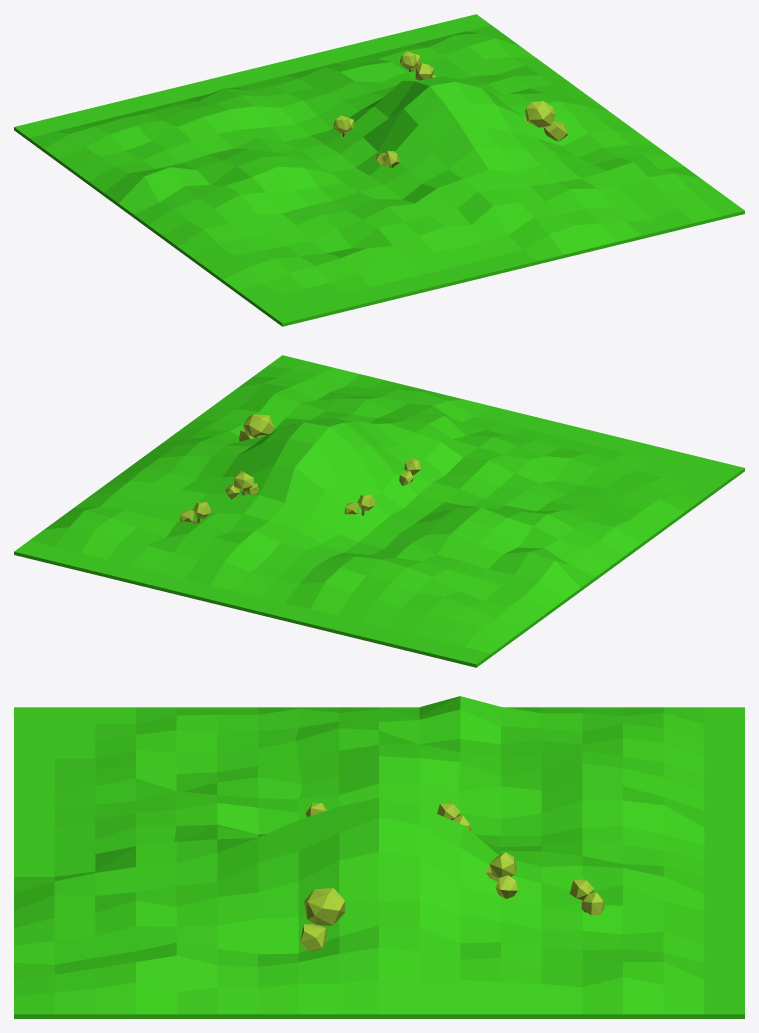
Rendered from bighill.fbx.
3 renders of one model, top to bottom at view 1: azimuth 30°, elevation 25°; view 2: azimuth 150°, elevation 25°; view 3: azimuth 270°, elevation 25°, orthographic. The views are drawn at different scales.
Visible parts, largest first — view 1: Grid.001, tree01; view 2: Grid.001, tree01, tree03; view 3: Grid.001, tree01, tree03, tree02.
Part boxes in pixels (left/top/right/bottom): Grid.001: left=14, top=14, right=744, bottom=326; tree01: left=525, top=101, right=567, bottom=141; Grid.001: left=14, top=355, right=744, bottom=667; tree01: left=239, top=414, right=274, bottom=441; tree03: left=225, top=471, right=258, bottom=499; Grid.001: left=14, top=696, right=744, bottom=1018; tree01: left=300, top=888, right=345, bottom=951; tree03: left=485, top=852, right=517, bottom=898; tree02: left=569, top=878, right=604, bottom=915.
Bounding box in the file's own units: 3272 × 609 × 3290.
